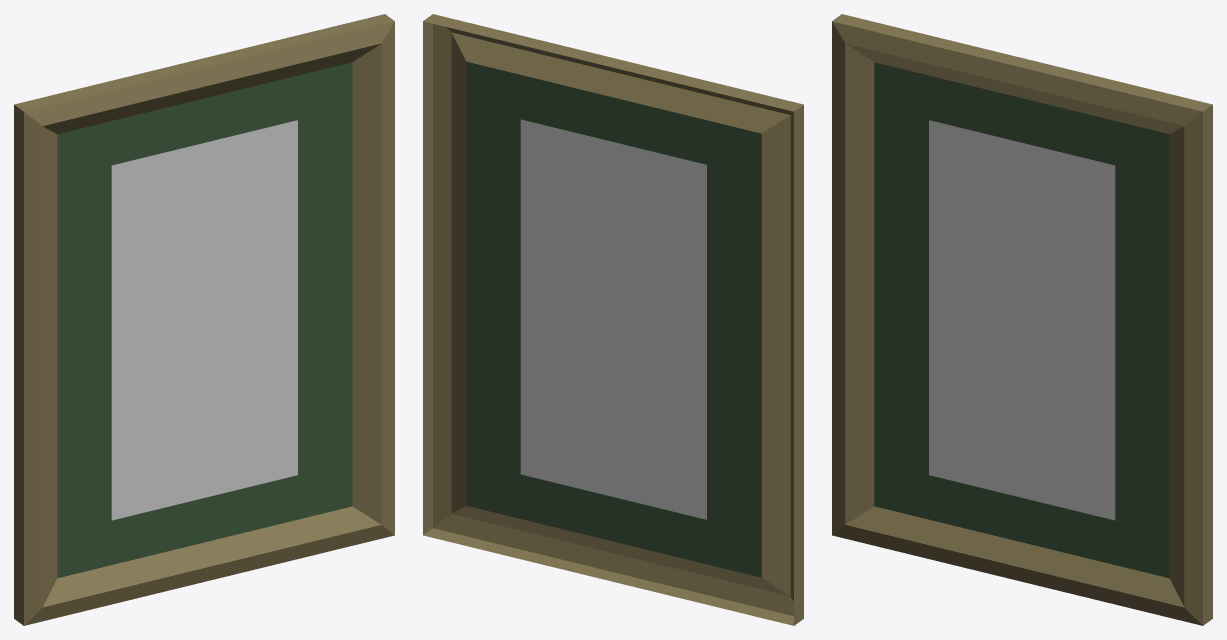
The model's file is frame1.gltf.
The picture shows the model from 3 angles, left to right: view 1: azimuth 30°, elevation 25°; view 2: azimuth 150°, elevation 25°; view 3: azimuth 330°, elevation 25°; orthographic projection.
Parts seen in each view (by area): view 1: Plane.004; view 2: Plane.004; view 3: Plane.004.
Boxes of the visible parts, bbox=[...] form: Plane.004: bbox=[14, 14, 394, 625]; Plane.004: bbox=[423, 14, 803, 625]; Plane.004: bbox=[832, 14, 1212, 625].
Bounding box in the file's own units: 0.309 × 0.4092 × 0.0181.
